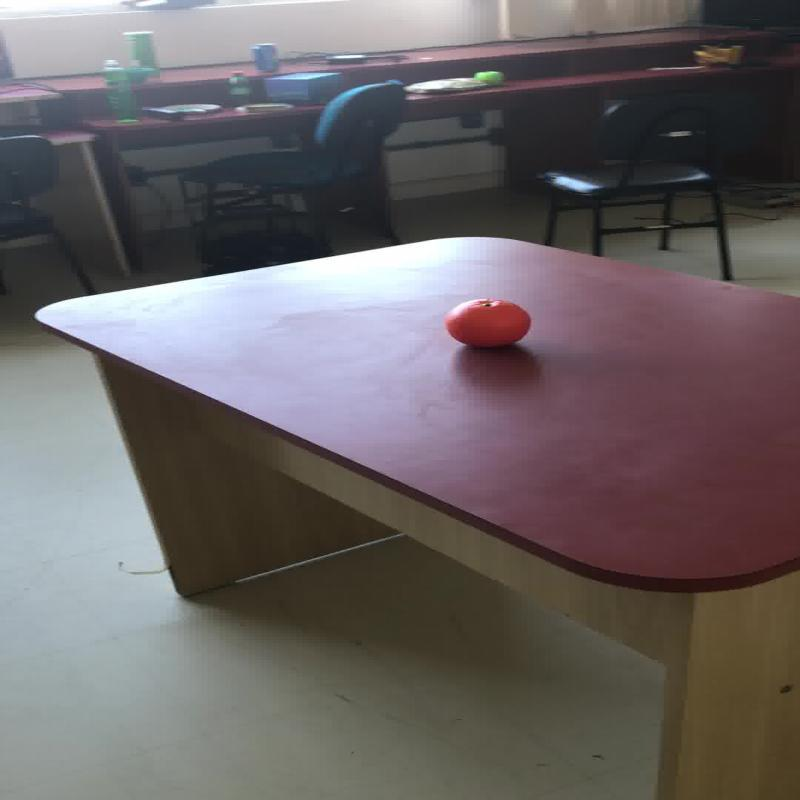orange: (442, 297, 531, 347), (472, 70, 504, 85)
